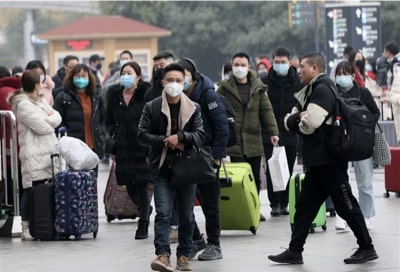Mask: (165, 82, 182, 96), (120, 75, 135, 88), (272, 63, 289, 74), (232, 66, 247, 77)
